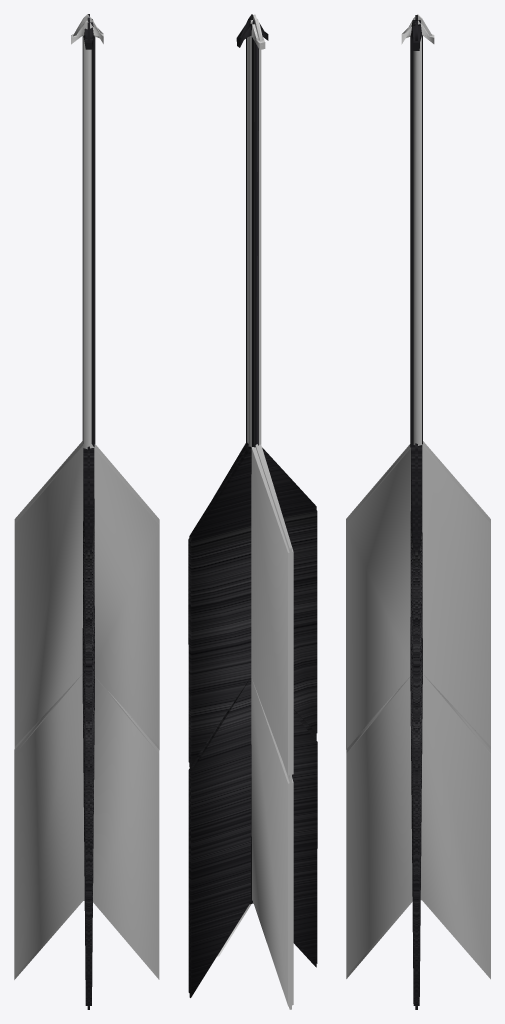
The model's file is arrow.gltf.
3 renders of one model, left to right at view 1: azimuth 90°, elevation 25°; view 2: azimuth 210°, elevation 25°; view 3: azimuth 270°, elevation 25°, orthographic.
Visible parts, largest first — view 1: Plane, Plane.001; view 2: Plane.001, Plane; view 3: Plane, Plane.001.
Boxes of the visible parts, x1,y1,x2,y2 form: Plane: (14, 14, 159, 979); Plane.001: (82, 14, 95, 1009); Plane.001: (188, 14, 317, 997); Plane: (217, 14, 293, 1009); Plane: (346, 14, 490, 979); Plane.001: (410, 15, 422, 1009).
Bounding box in the file's own units: 0.5716 × 4.2 × 0.5716.
